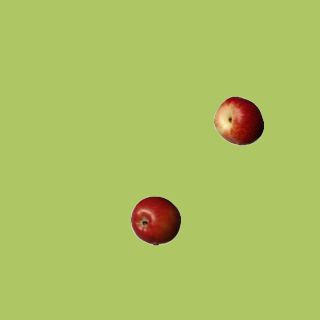Apple Braeburn: (130, 195, 180, 245)
Nectarine: (213, 95, 263, 145)
